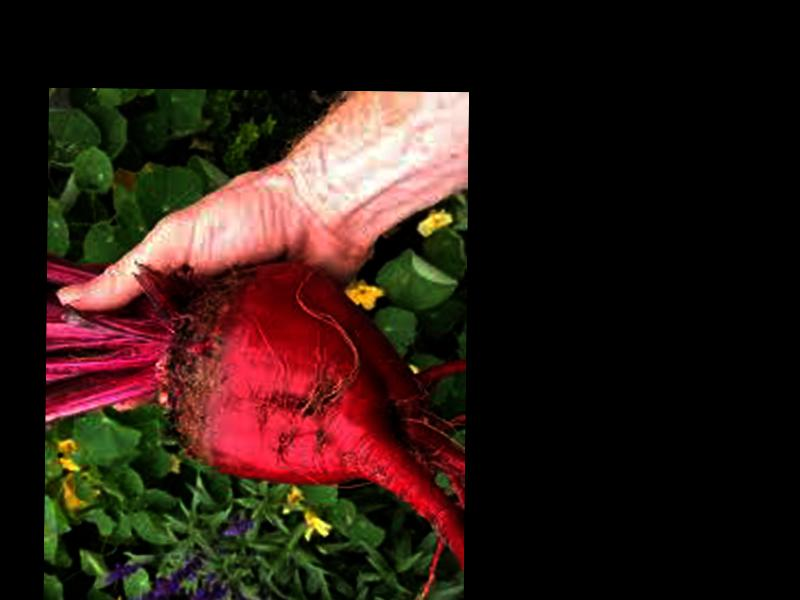Beet: (46, 259, 467, 562)
